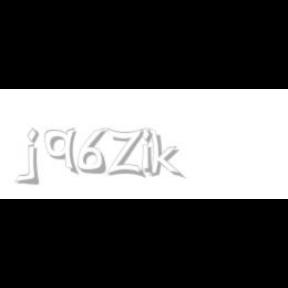6: (78, 128, 106, 176)
Z: (106, 128, 144, 178)
i: (140, 128, 156, 176)
j: (24, 128, 54, 186)
k: (147, 128, 185, 180)
q: (44, 128, 80, 176)
